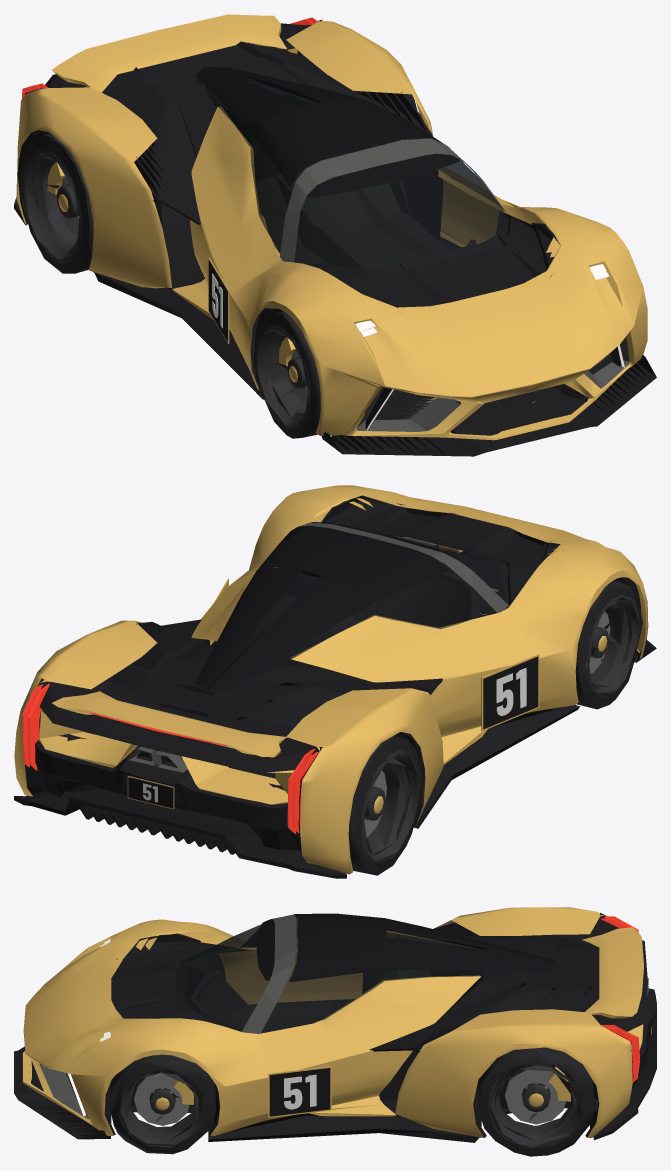
File: surge_lod2.glb
3 views of the same model, one above another, from view 1: azimuth 30°, elevation 25°; view 2: azimuth 150°, elevation 25°; view 3: azimuth 270°, elevation 25° (orthographic). The views are drawn at different scales.
Parts seen in each view (by area): view 1: Body, Wheel_RR, Wheel_FR; view 2: Body, Wheel_RR, Wheel_FR; view 3: Body, Wheel_RL, Wheel_FL.
Boxes of the visible parts, left/top/right/bottom form: Body: left=14, top=14, right=656, bottom=456; Wheel_RR: left=19, top=133, right=93, bottom=273; Wheel_FR: left=253, top=311, right=320, bottom=438; Body: left=14, top=485, right=656, bottom=878; Wheel_RR: left=348, top=736, right=422, bottom=875; Wheel_FR: left=575, top=580, right=642, bottom=709; Body: left=14, top=907, right=656, bottom=1142; Wheel_RL: left=477, top=1047, right=594, bottom=1156; Wheel_FL: left=109, top=1054, right=215, bottom=1154.
Bounding box in the file's own units: 2.43 × 1.32 × 4.85.
Materials: 6 (3 with a texture image).
